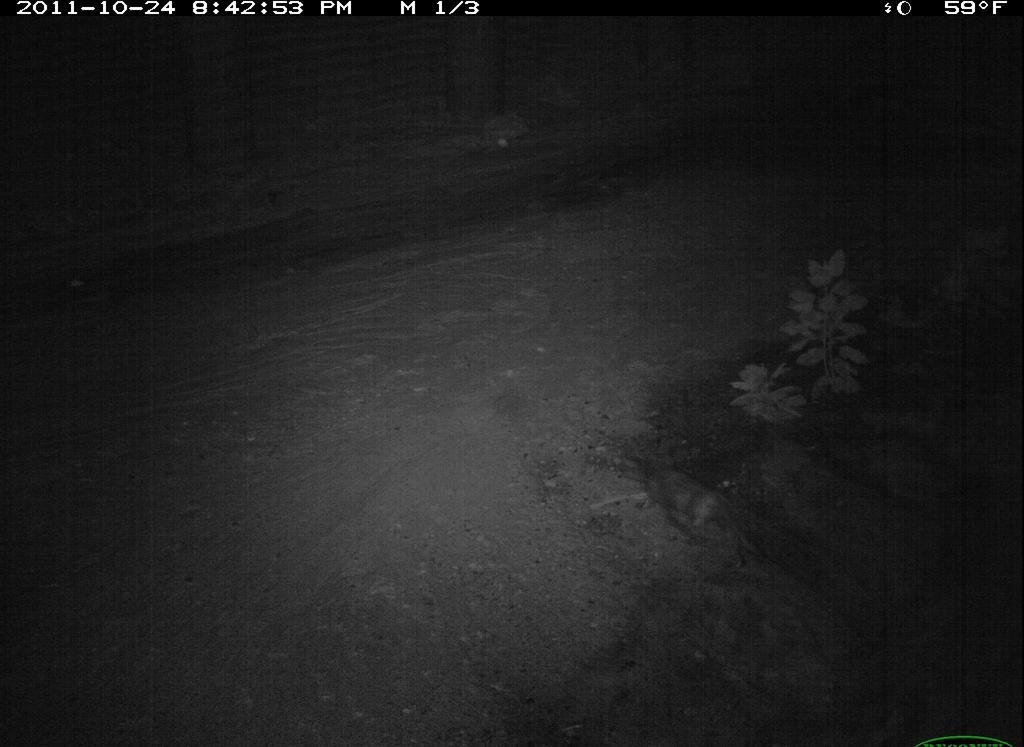cat: (610, 437, 776, 593)
